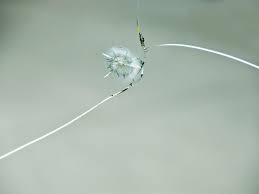bullseye: (98, 42, 154, 97)
scratch: (9, 103, 101, 160)
